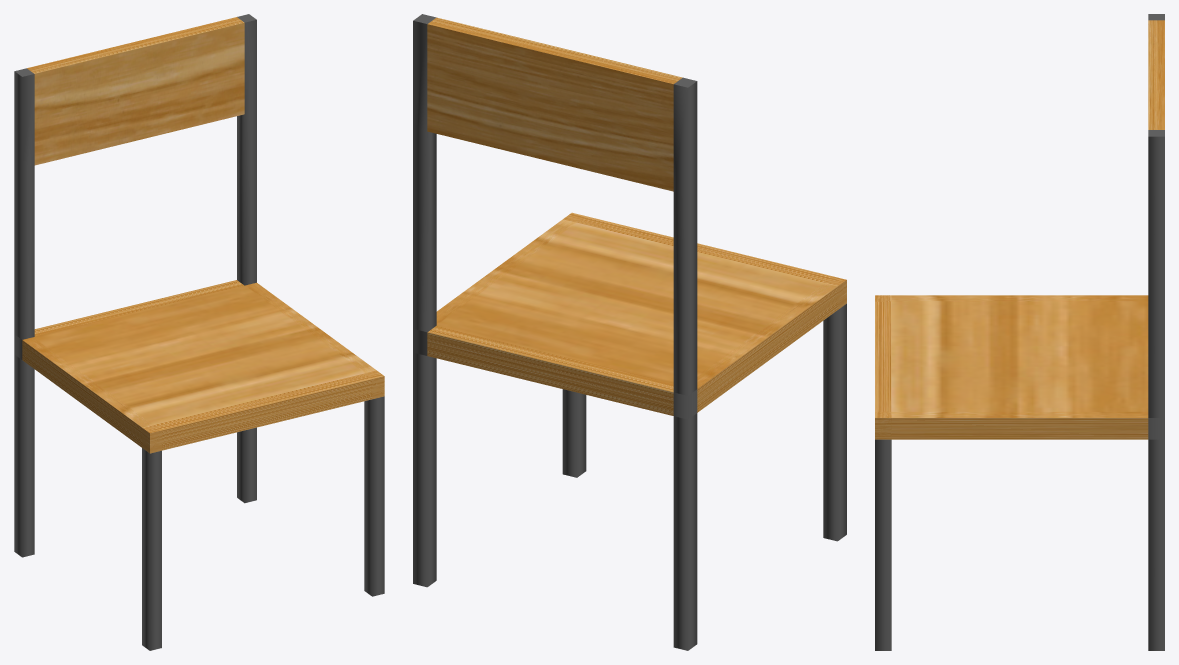
The model's file is BasicChair2.fbx.
3 renders of one model, left to right at view 1: azimuth 30°, elevation 25°; view 2: azimuth 150°, elevation 25°; view 3: azimuth 270°, elevation 25°, orthographic. The views are drawn at different scales.
Visible parts, largest first — view 1: pCube6; view 2: pCube6; view 3: pCube6.
Part boxes in pixels (left/top/right/bottom): pCube6: left=14, top=14, right=384, bottom=650; pCube6: left=413, top=14, right=846, bottom=650; pCube6: left=875, top=14, right=1164, bottom=650.
Size of the model in its own units: 0.6157 by 1.21 by 0.6157.
